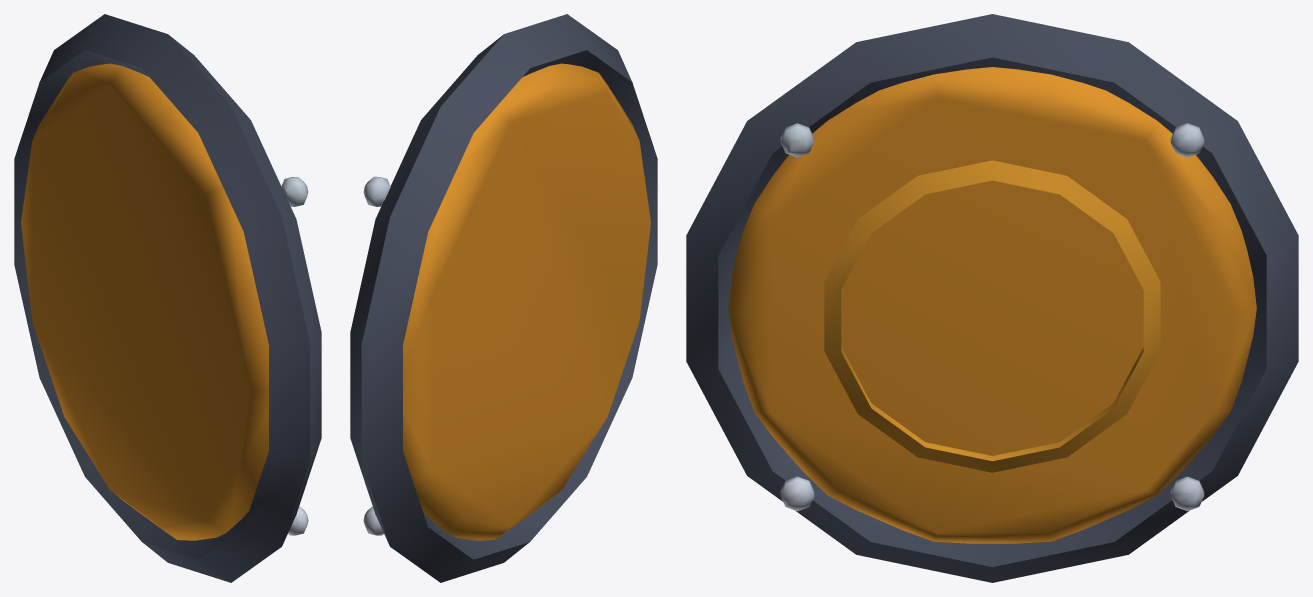
Rendered from SM_Prop_PracticalLamp_Lens.fbx.
3 views of the same model, side by side, from view 1: azimuth 30°, elevation 25°; view 2: azimuth 150°, elevation 25°; view 3: azimuth 270°, elevation 25° (orthographic). The views are drawn at different scales.
Visible parts, largest first — view 1: SM_Prop_PracticalLamp_Lens; view 2: SM_Prop_PracticalLamp_Lens; view 3: SM_Prop_PracticalLamp_Lens.
Part boxes in pixels (x1,y1,x2,y2): SM_Prop_PracticalLamp_Lens: (14,14,321,582); SM_Prop_PracticalLamp_Lens: (350,14,657,582); SM_Prop_PracticalLamp_Lens: (686,14,1298,582).
Size of the model in its own units: 3.65 by 23.45 by 22.86.
